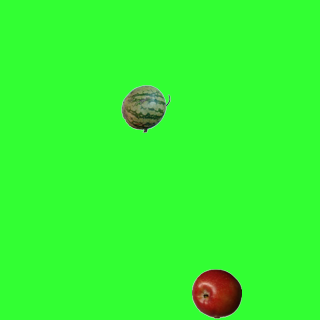Apple Braeburn: (191, 268, 241, 318)
Watermelon: (120, 83, 170, 133)
